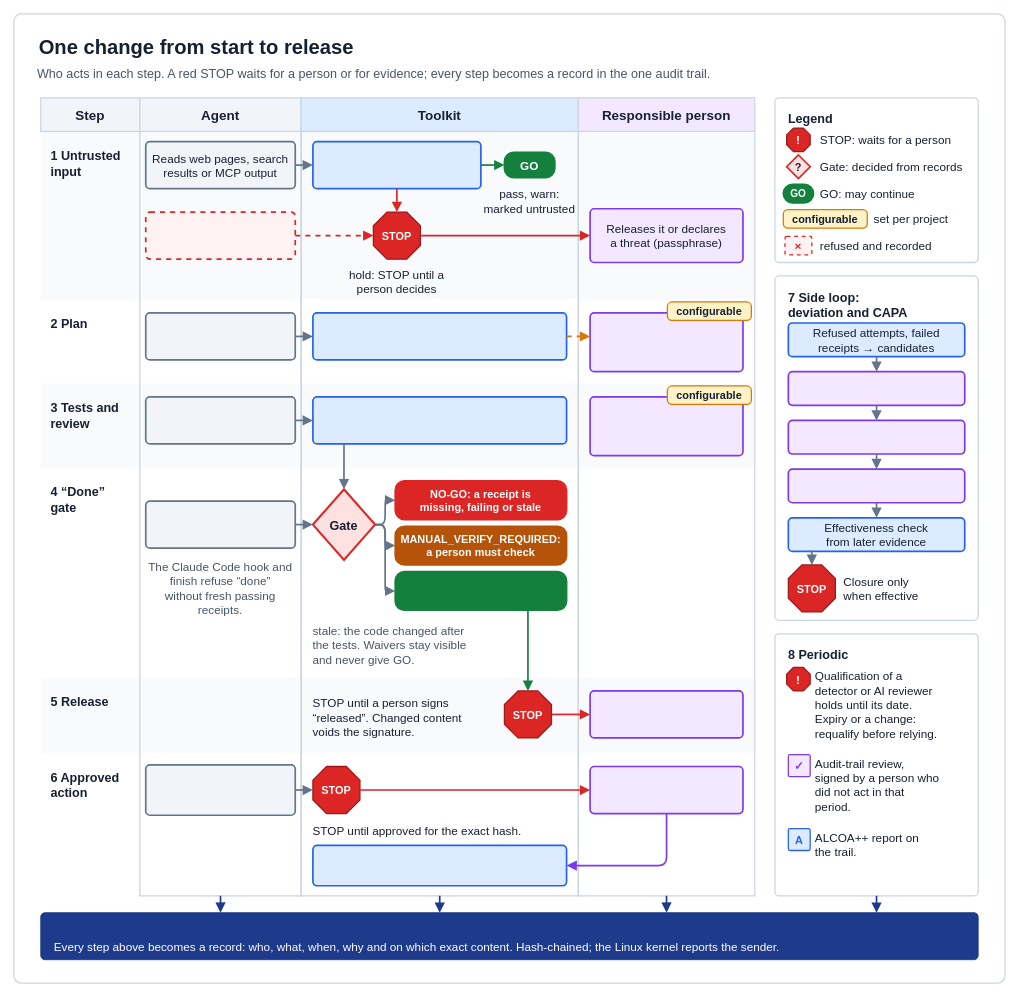
This 1019x997 diagram has some shape labels left out. Here are the shapes that lost their labels. From the top down, the box of each, then its label:
(312, 140, 481, 189): aqt-quarantine scores it: pass · warn · hold
(144, 211, 296, 260): Releasing it itself: refused and recorded
(144, 312, 296, 360): Writes the plan: tasks, checks, allowed paths
(312, 312, 567, 360): Records the accepted plan version (baseline hash)
(589, 312, 743, 372): Signs this plan version “approved”. Needed for GO in step 4.
(787, 370, 965, 406): Person accepts a deviation (or dismisses)
(144, 396, 296, 444): Changes the code; asks the tool to run checks
(312, 396, 567, 444): aqt-change run: runs the declared checks, keeps receipts
(589, 396, 743, 456): Review by a person or an agent of another model. Needed for GO in step 4.
(787, 419, 965, 454): Root cause recorded
(787, 468, 965, 503): Corrective action, approved by a person
(144, 500, 296, 549): Says “done”: aqt-change finish
(394, 570, 567, 611): GO: fresh passing receipts for every check
(589, 690, 743, 738): Signs “released” (passphrase)
(144, 764, 296, 816): Prepares an action, e.g. a deployment (prepare)
(589, 765, 743, 814): Approves the exact hash (passphrase)
(312, 844, 567, 886): Runs it once. “unknown” is never retried; a person resolves it.
(40, 912, 978, 960): aqt-trail · ONE audit trail
